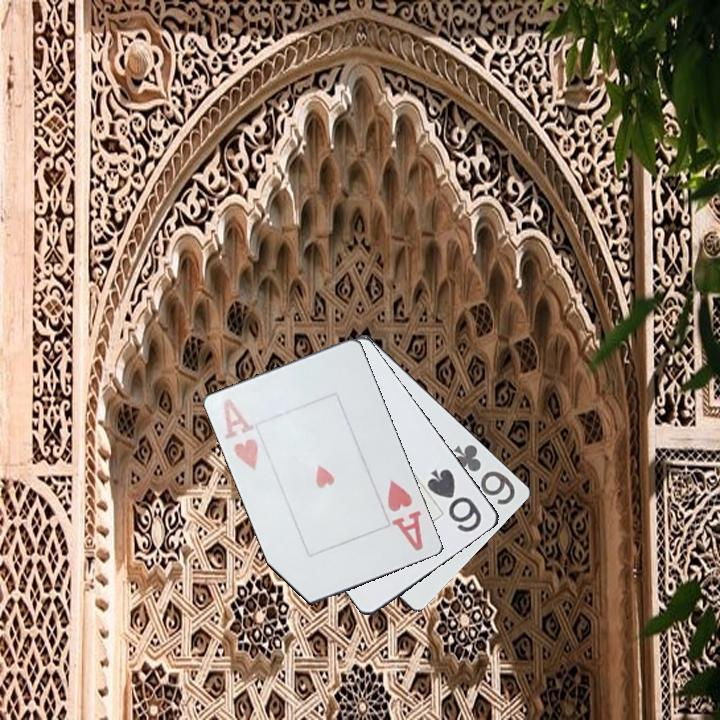6c: (450, 441, 519, 508)
6s: (424, 465, 485, 535)
Ah: (219, 395, 262, 473), (384, 476, 426, 554)
